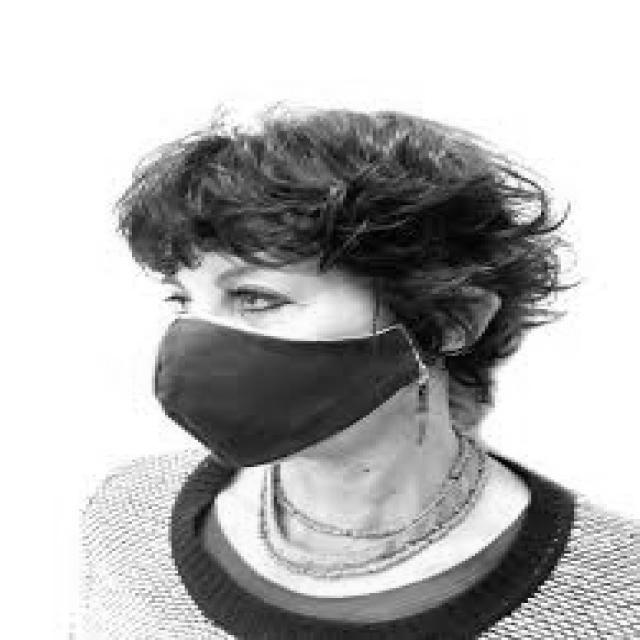fake: (151, 317, 428, 468)
real: (165, 259, 396, 474)
